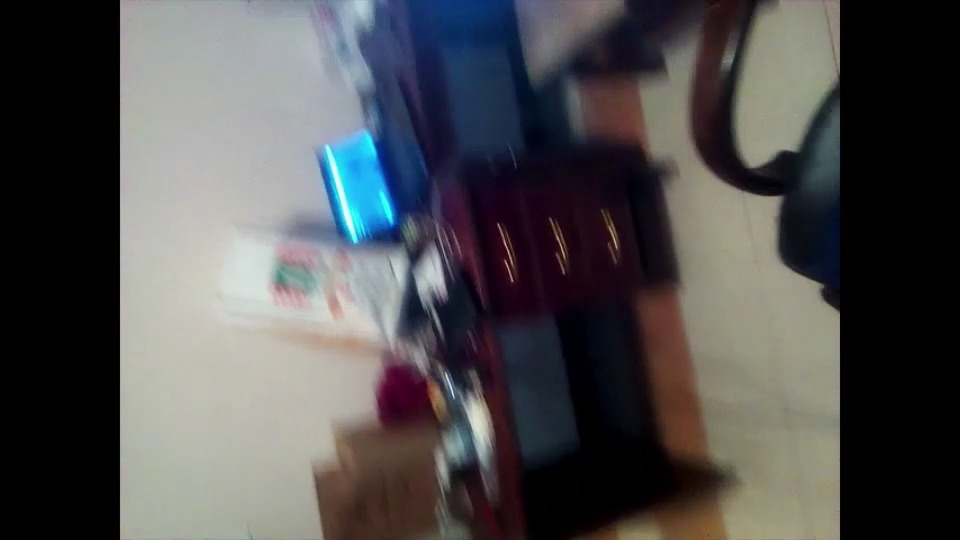maize_flour_green_label: (216, 232, 425, 358)
